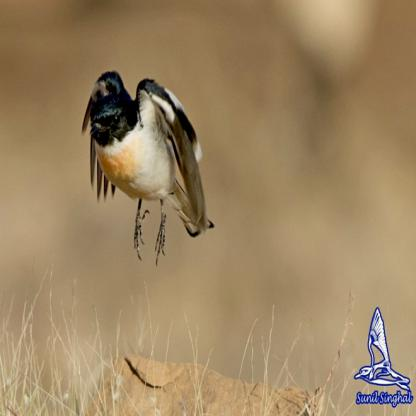Burung: (81, 71, 215, 264)
